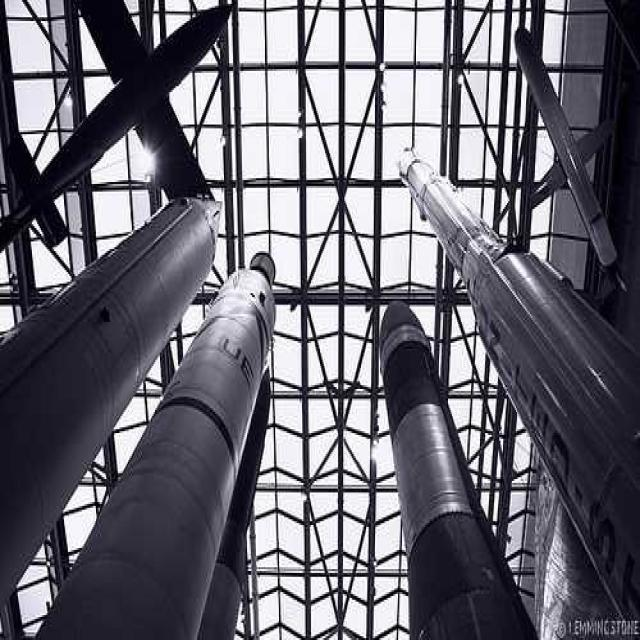missile: (391, 138, 640, 618), (4, 194, 221, 640), (47, 247, 281, 639), (374, 295, 534, 640)
